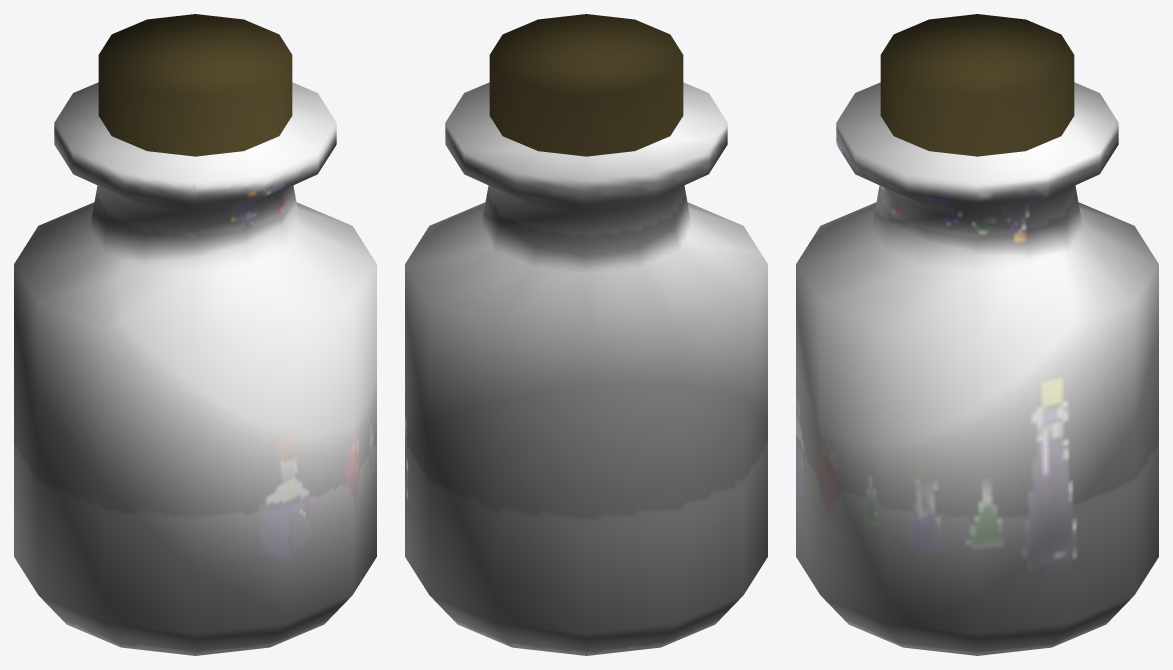
The model's file is Potion9.fbx.
3 views of the same model, side by side, from view 1: azimuth 30°, elevation 25°; view 2: azimuth 150°, elevation 25°; view 3: azimuth 270°, elevation 25° (orthographic).
Parts seen in each view (by area): view 1: Cylinder.000; view 2: Cylinder.000; view 3: Cylinder.000.
Part boxes in pixels (bbox=[...]): Cylinder.000: bbox=[14, 14, 376, 655]; Cylinder.000: bbox=[405, 14, 767, 655]; Cylinder.000: bbox=[796, 14, 1158, 655].
Bounding box in the file's own units: 56.92 × 93.14 × 56.92.
